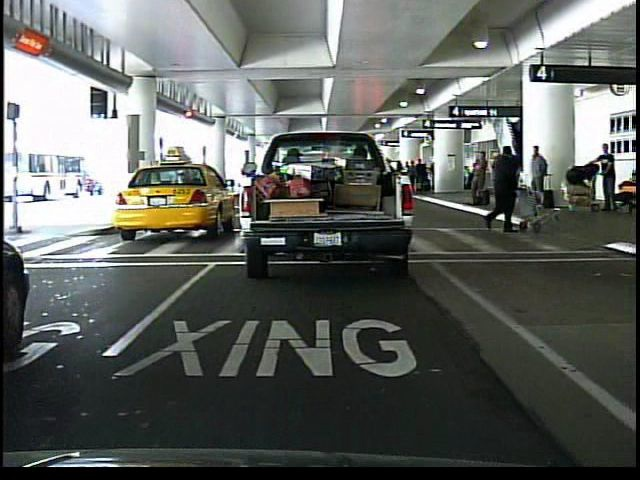person: (483, 145, 526, 237), (596, 139, 623, 217), (490, 146, 512, 223)
